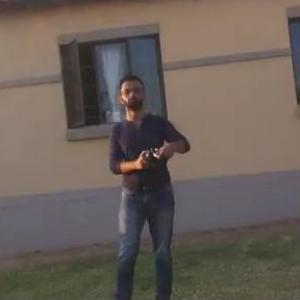follow: (102, 69, 193, 299)
